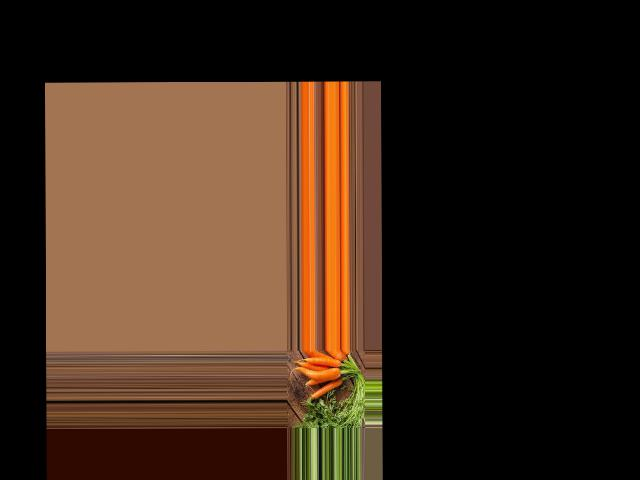carrot: (327, 349, 348, 365)
